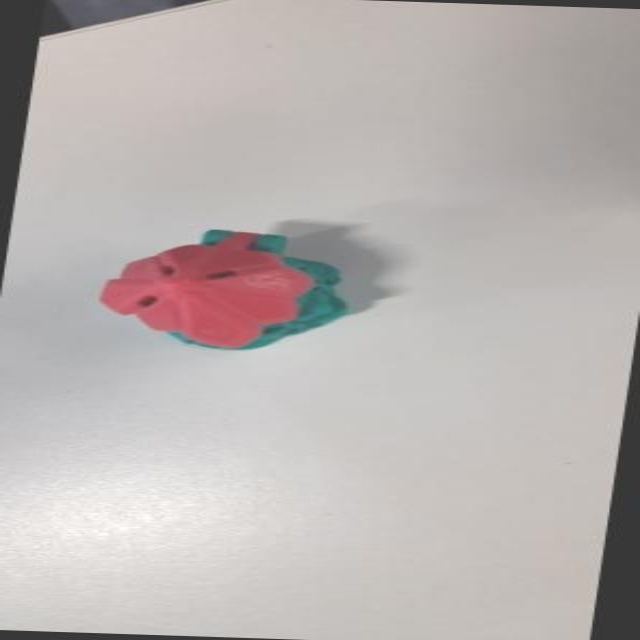House: (90, 228, 376, 363)
